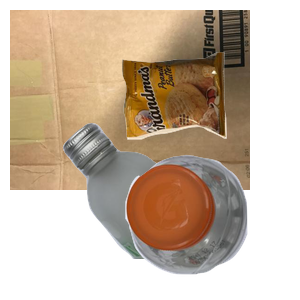cardboard: (10, 10, 250, 190)
glass: (60, 120, 300, 300)
plastic: (123, 152, 300, 300)
trash: (120, 50, 300, 182)
